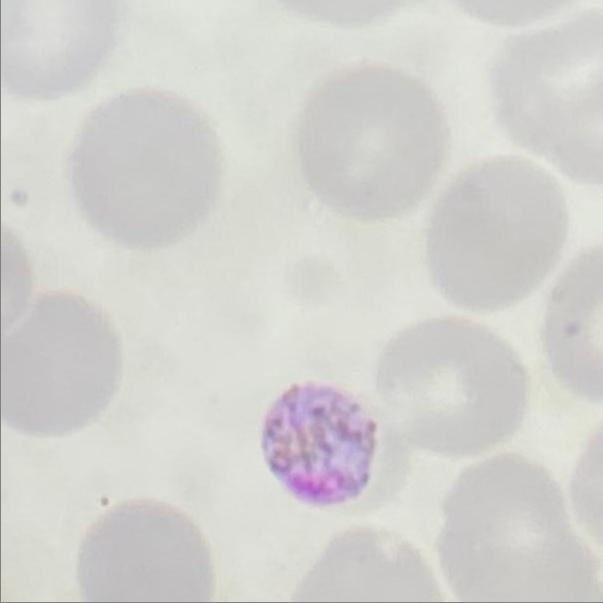Infected: (263, 382, 394, 515)
Uninfected: (70, 89, 219, 247), (295, 66, 445, 220), (420, 154, 562, 315), (442, 462, 601, 603), (483, 11, 603, 187), (377, 319, 525, 460), (0, 291, 115, 437), (77, 501, 215, 603)
